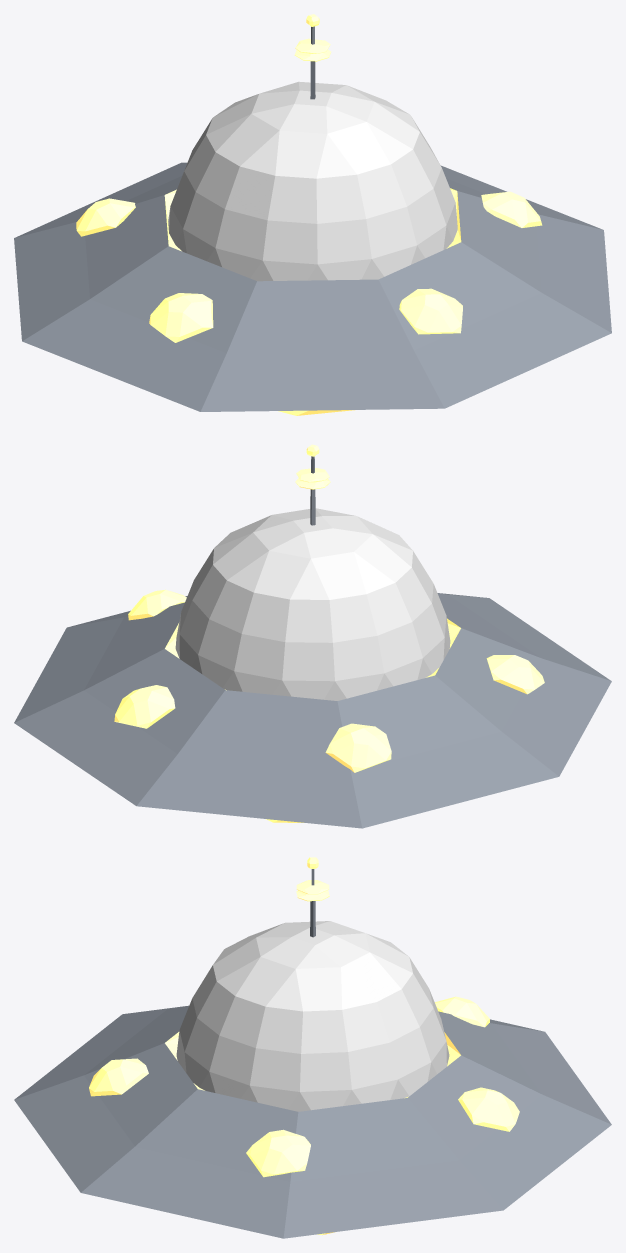
Rendered from SM_ufo.fbx.
The picture shows the model from 3 angles, top to bottom: view 1: azimuth 30°, elevation 25°; view 2: azimuth 150°, elevation 25°; view 3: azimuth 270°, elevation 25°; orthographic projection. The views are drawn at different scales.
Parts seen in each view (by area): view 1: SM_ufo2; view 2: SM_ufo2; view 3: SM_ufo2.
Boxes of the visible parts, x1,y1,x2,y2 form: SM_ufo2: (14, 14, 611, 415); SM_ufo2: (14, 444, 611, 828); SM_ufo2: (14, 857, 611, 1238).
Bounding box in the file's own units: 1.42 × 0.88 × 1.42.
